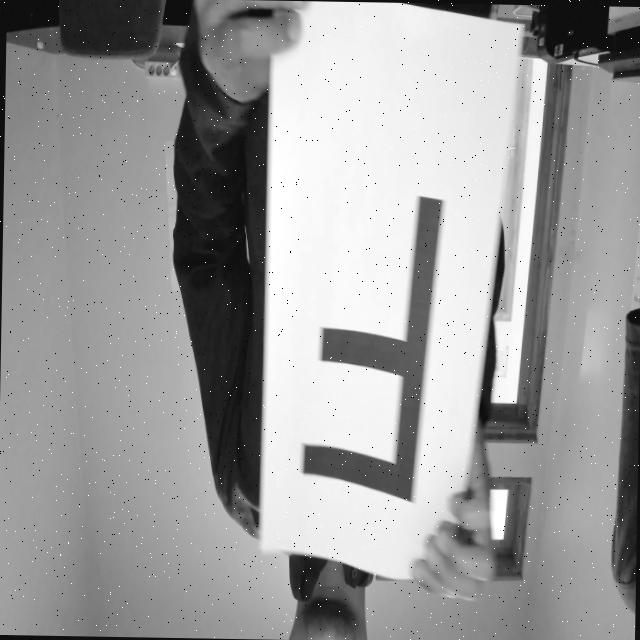f: (292, 158, 448, 518)
